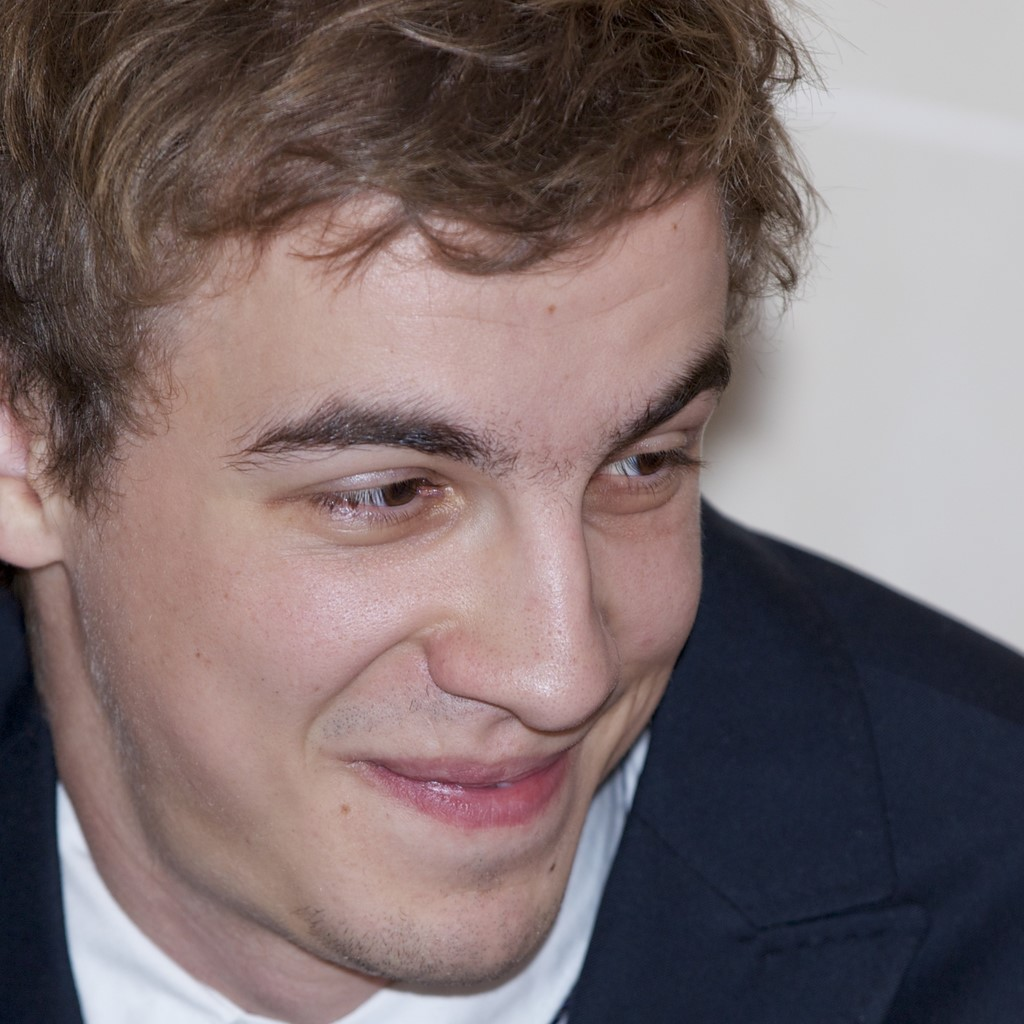sin_mascara: (63, 74, 722, 959)
